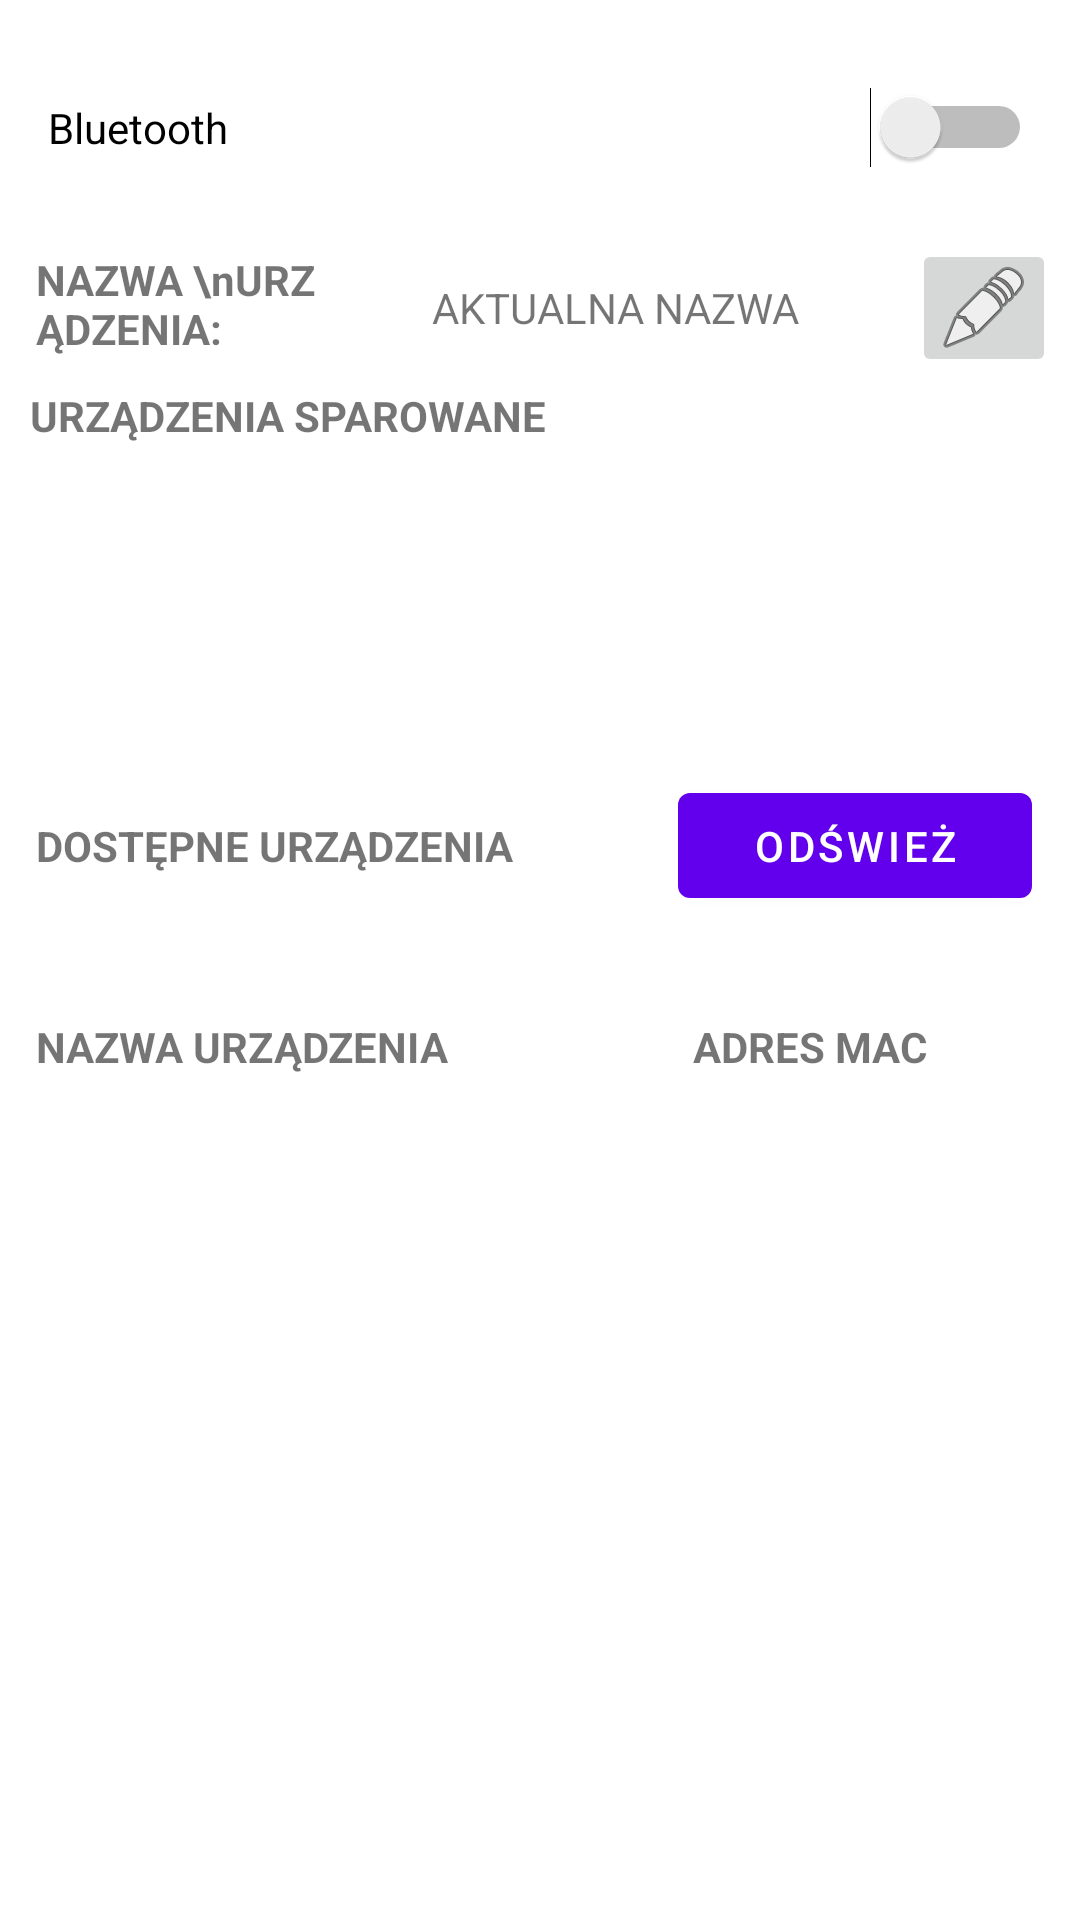

Icon click points for this 1080*1920 phone screenshot, format (x=x, y=y):
edit: (x=984, y=308)
